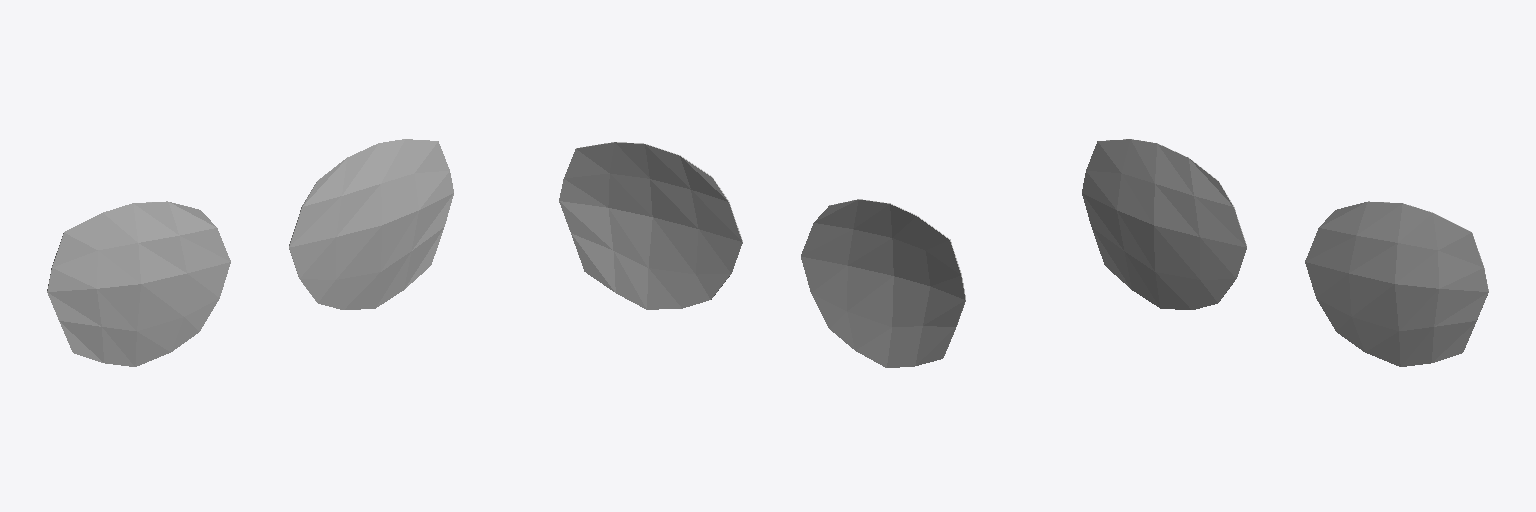
The model's file is glasses_6_lenses.obj.
The picture shows the model from 3 angles: view 1: azimuth 30°, elevation 25°; view 2: azimuth 150°, elevation 25°; view 3: azimuth 330°, elevation 25°; orthographic projection.
Parts seen in each view (by area): view 1: Plane; view 2: Plane; view 3: Plane.
Boxes of the visible parts, <box> form: Plane: <box>47,139,453,366</box>; Plane: <box>559,142,965,367</box>; Plane: <box>1082,139,1488,366</box>.
Size of the model in its own units: 0.1262 by 0.0489 by 0.0062.